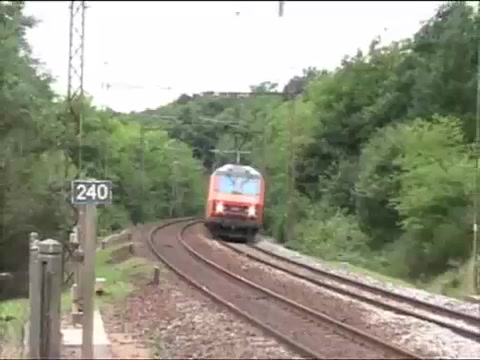train: (205, 160, 268, 242)
